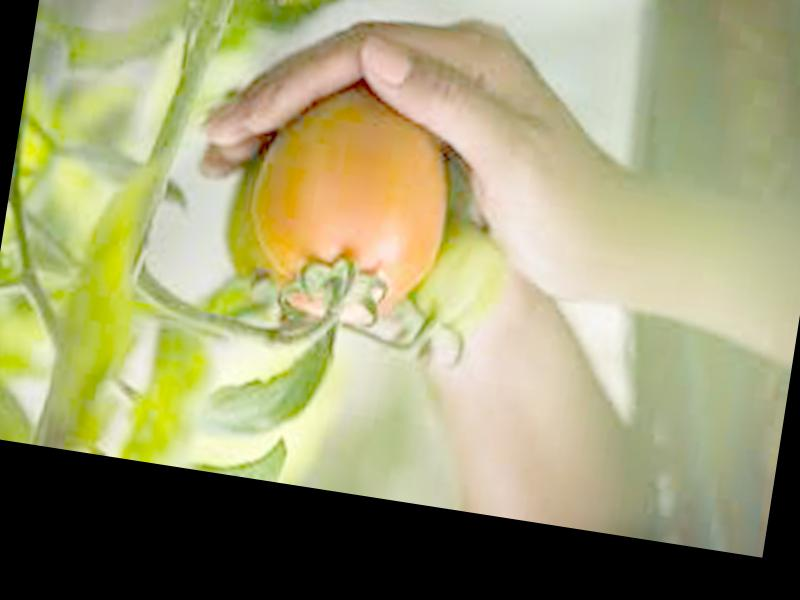Tomato: (239, 86, 460, 332)
